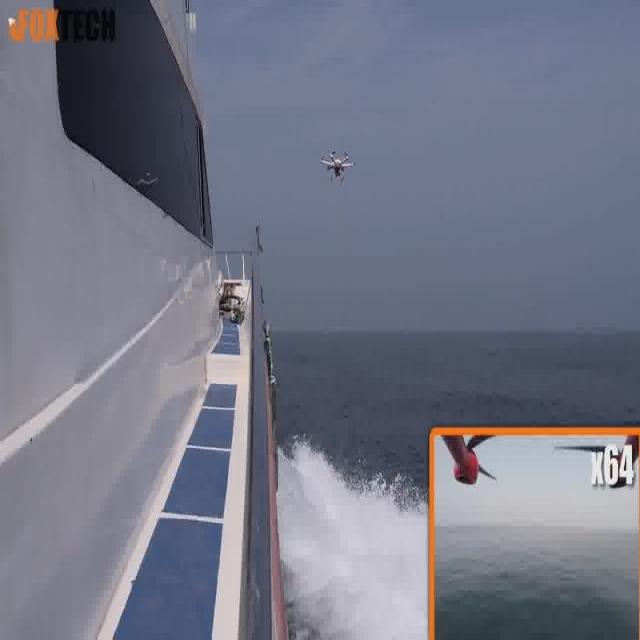drone: (319, 146, 357, 188)
